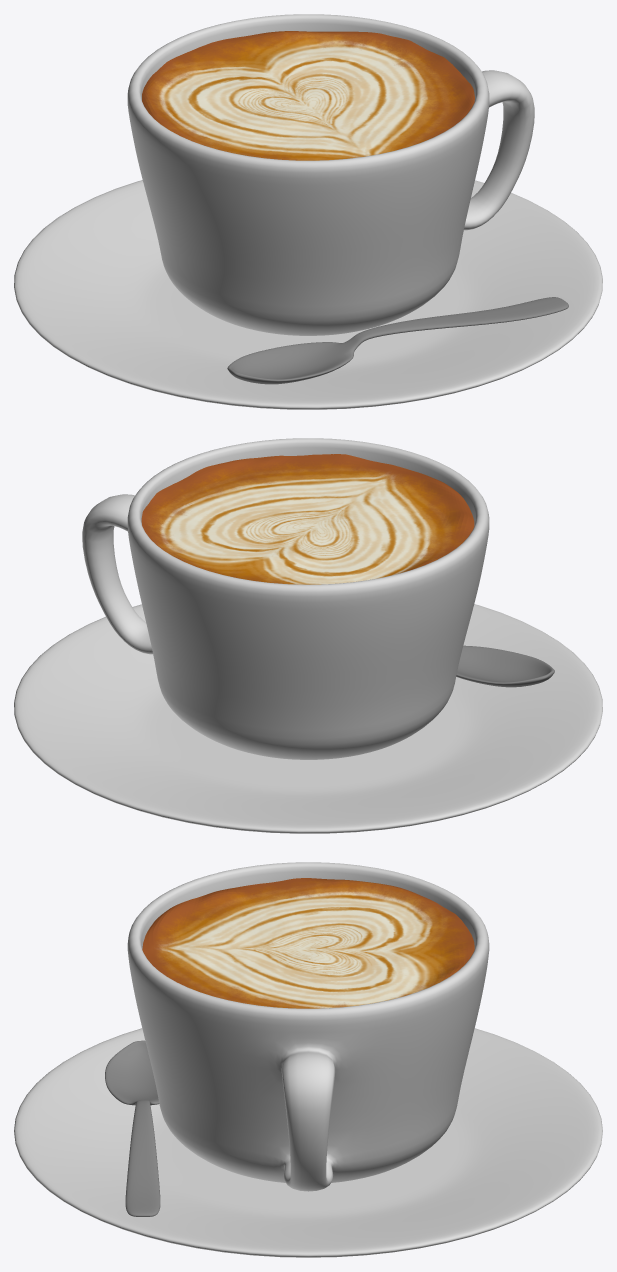
File: cafelatte.fbx
3 views of the same model, one above another, from view 1: azimuth 30°, elevation 25°; view 2: azimuth 150°, elevation 25°; view 3: azimuth 270°, elevation 25° (orthographic).
Visible parts, largest first — view 1: Cup, Saucer, Latte, Spoon; view 2: Cup, Saucer, Latte, Spoon; view 3: Saucer, Cup, Latte, Spoon.
Boxes of the visible parts, x1=… form: Cup: x1=127, y1=14, x2=534, y2=335; Saucer: x1=14, y1=180, x2=602, y2=409; Latte: x1=142, y1=31, x2=474, y2=160; Spoon: x1=227, y1=297, x2=568, y2=384; Cup: x1=82, y1=438, x2=489, y2=759; Saucer: x1=14, y1=604, x2=602, y2=833; Latte: x1=141, y1=454, x2=474, y2=584; Spoon: x1=456, y1=645, x2=554, y2=687; Saucer: x1=14, y1=1028, x2=602, y2=1257; Cup: x1=127, y1=862, x2=489, y2=1191; Latte: x1=142, y1=878, x2=474, y2=1008; Spoon: x1=105, y1=1040, x2=160, y2=1216.
Size of the model in its own units: 125 by 52.74 by 125.
3 materials, 1 textured.
